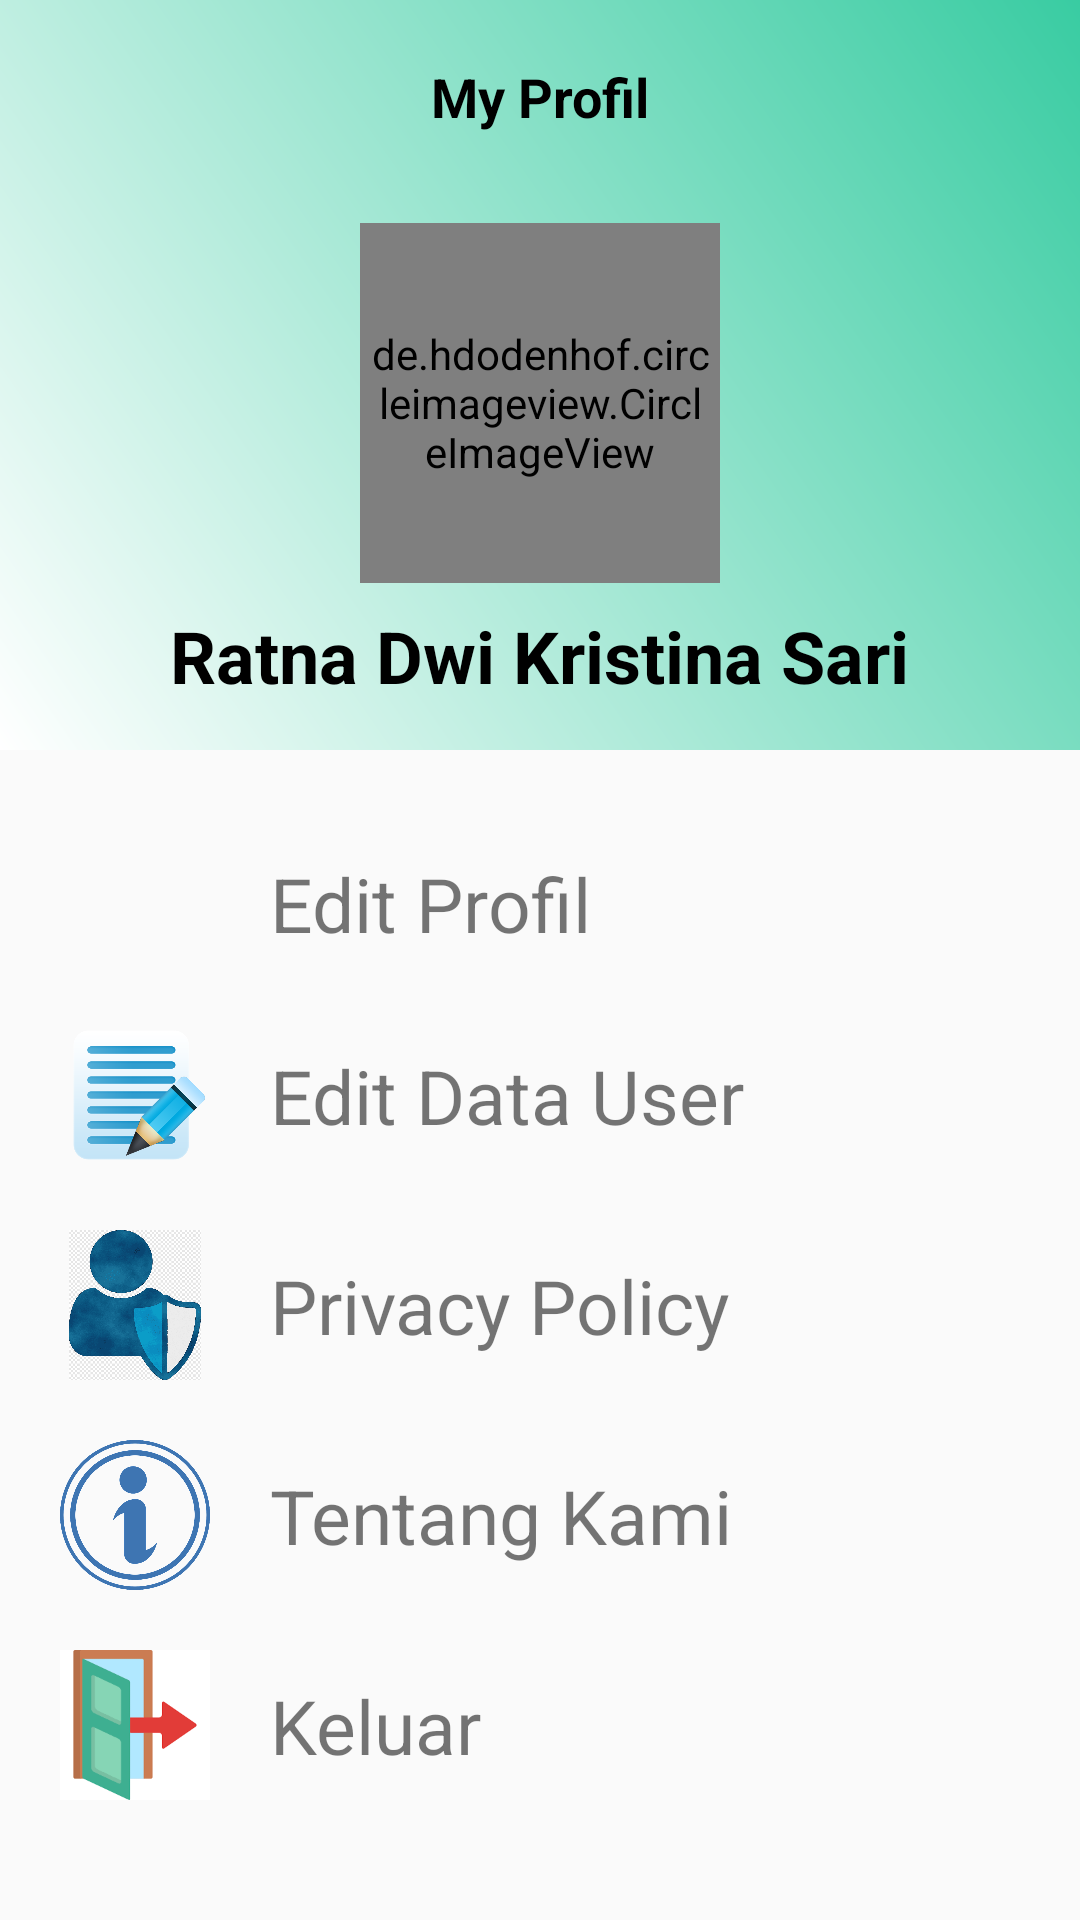

Where icons sit on this 1080 x 1920 app screen, as (x1, y1, x2, y2):
log: (73, 1650, 197, 1800)
